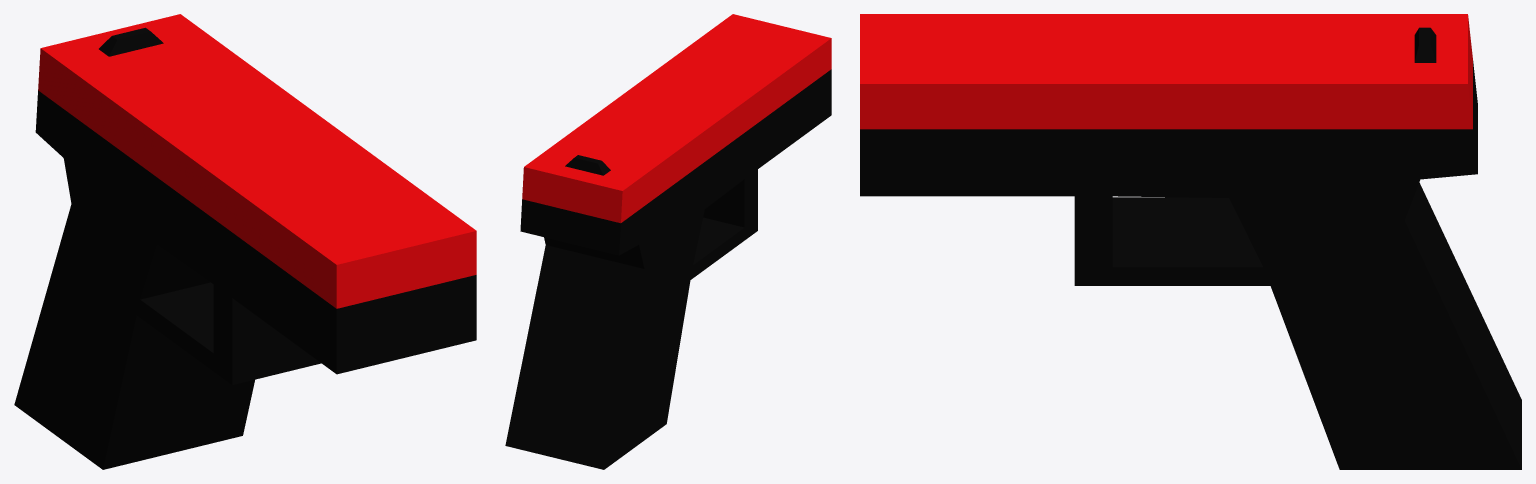
Rendered from Pistol.fbx.
3 views of the same model, side by side, from view 1: azimuth 30°, elevation 25°; view 2: azimuth 150°, elevation 25°; view 3: azimuth 270°, elevation 25° (orthographic). The views are drawn at different scales.
Visible parts, largest first — view 1: Pistol; view 2: Pistol; view 3: Pistol.
Part boxes in pixels (left/top/right/bottom): Pistol: left=14, top=14, right=476, bottom=469; Pistol: left=505, top=14, right=831, bottom=469; Pistol: left=860, top=14, right=1521, bottom=469.
Size of the model in its own units: 20 by 53.07 by 79.81.
